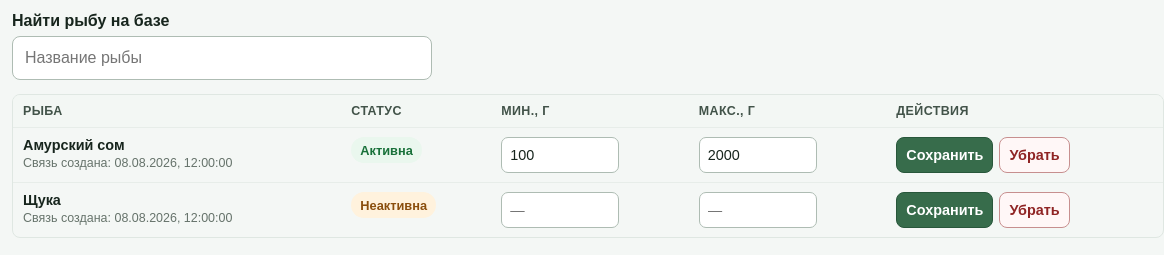
Test: BaseFishWeightTable › filters memberships and submits only the independently changed bound
The image size is (1164, 255).
Step 1. Type "сом" into the search field labelled "Найти рыбу на базе" → (222, 58), box [12,36,432,80]
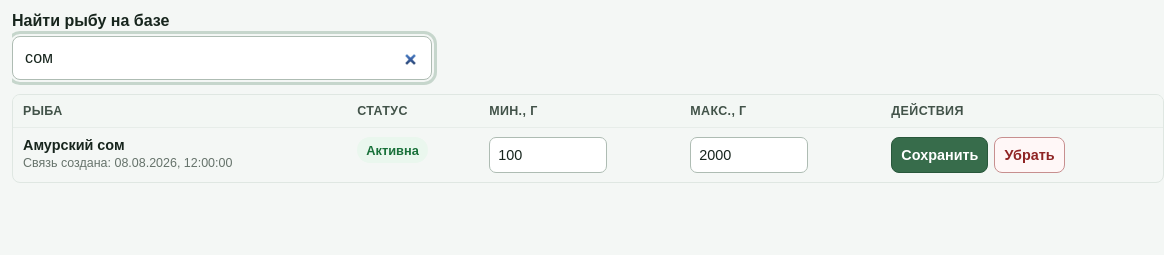
Expected: the column heading "Амурский сом Связь создана: 08.08.2026, 12:00:00" is shown, [13,128,347,182]
Expected: the text "Щука" is gone
Step 2. Replace the text in the number field named "Минимальный вес, Амурский сом" with "150" → (548, 155), box [489,137,607,173]
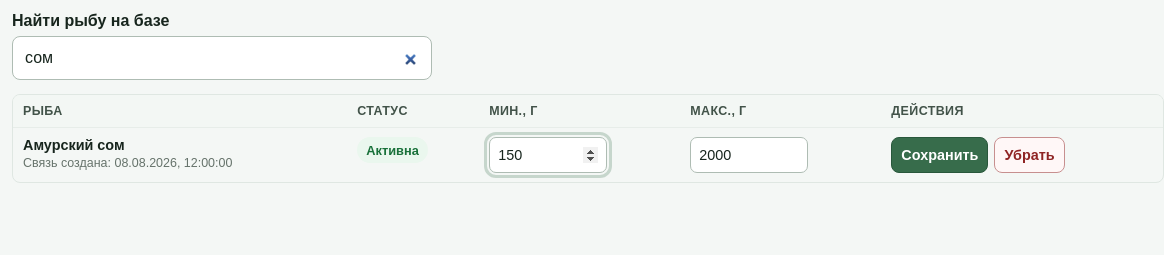
Step 3. Click the button "Сохранить" → (940, 155), box [891,137,988,173]
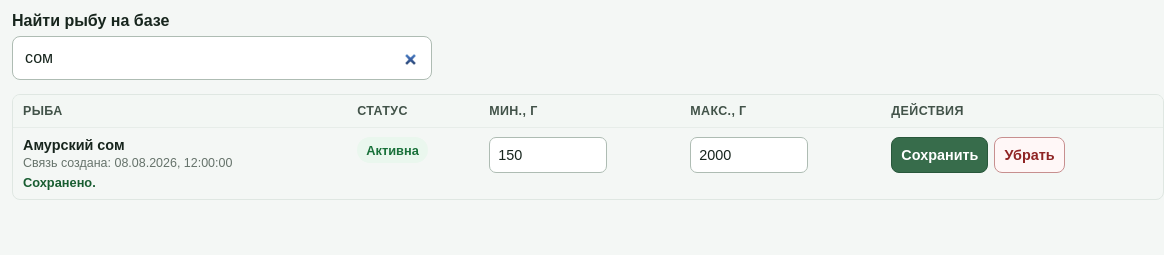
Expected: the message reads "Сохранено.", [23,175,96,190]
